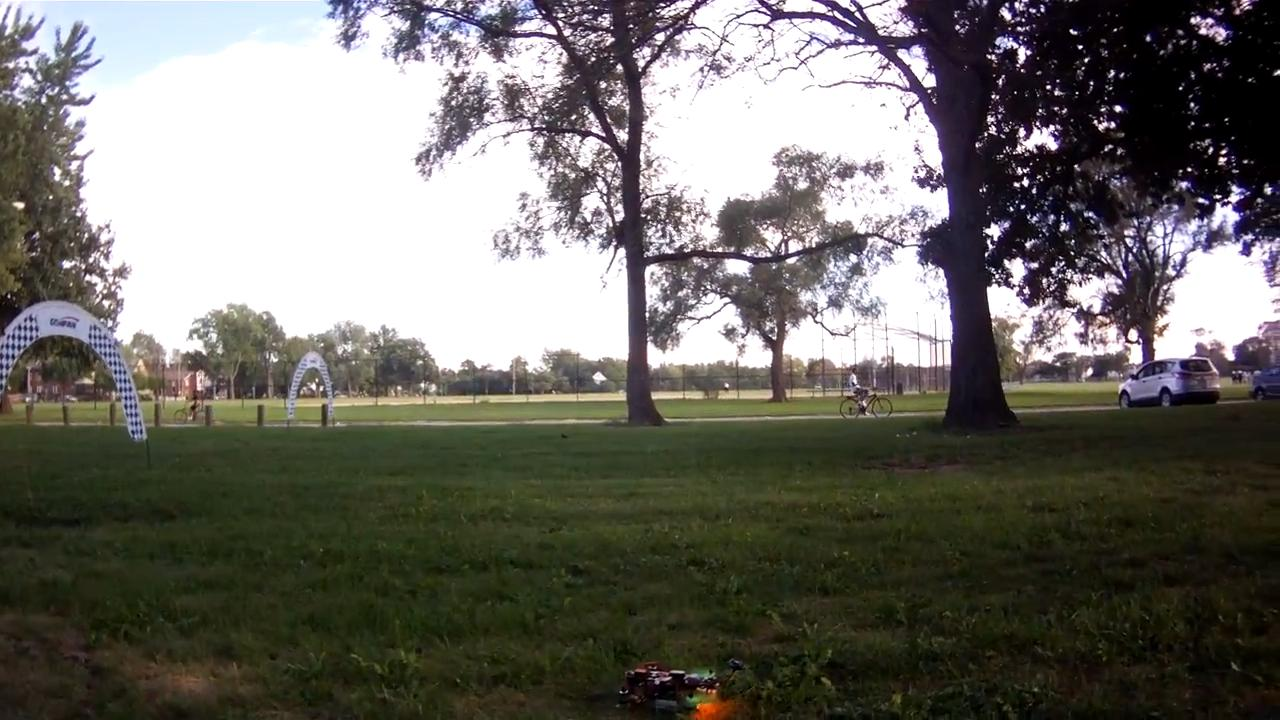gate: (1, 297, 147, 448)
